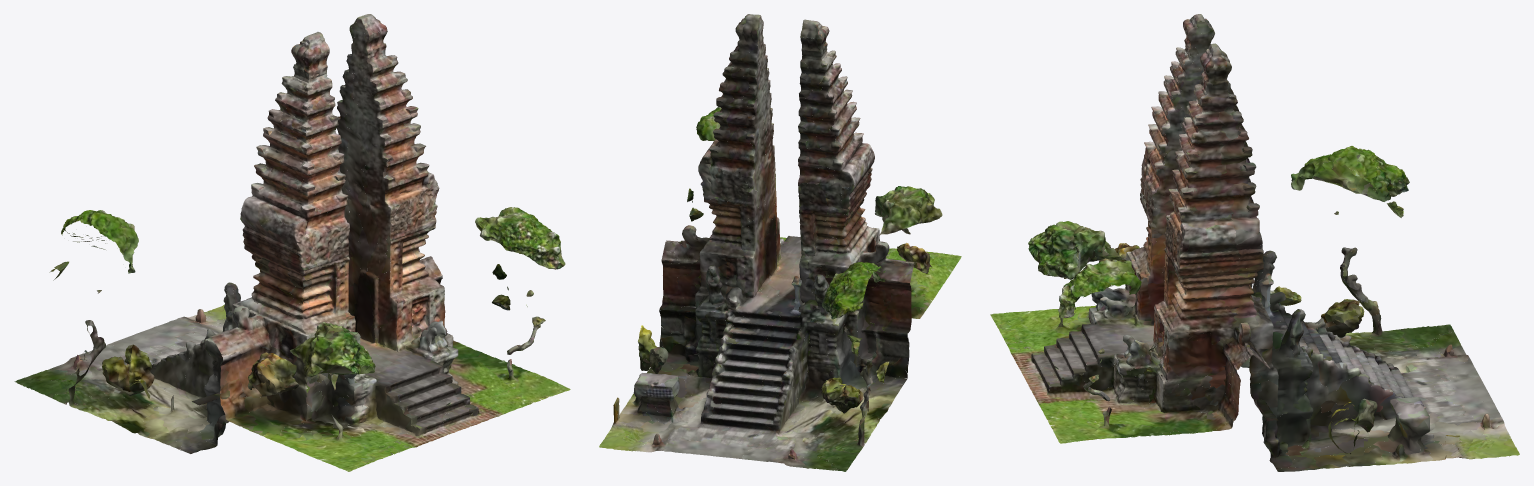
File: candi-bentar.glb
The picture shows the model from 3 angles, left to right: view 1: azimuth 30°, elevation 25°; view 2: azimuth 150°, elevation 25°; view 3: azimuth 270°, elevation 25°; orthographic projection. The views are drawn at different scales.
Visible parts, largest first — view 1: Object_5, Object_7, Object_9, Object_13, Object_11; view 2: Object_13, Object_7, Object_5, Object_11, Object_9; view 3: Object_9, Object_5, Object_13, Object_11, Object_7.
Part boxes in pixels (bbox=[...]): Object_5: bbox=[16, 19, 570, 471]; Object_7: bbox=[14, 16, 563, 471]; Object_9: bbox=[51, 19, 566, 462]; Object_13: bbox=[54, 16, 563, 461]; Object_11: bbox=[29, 14, 562, 459]; Object_13: bbox=[605, 15, 952, 462]; Object_7: bbox=[615, 14, 960, 471]; Object_5: bbox=[599, 15, 961, 470]; Object_11: bbox=[621, 14, 940, 468]; Object_9: bbox=[610, 15, 938, 457]; Object_9: bbox=[999, 18, 1515, 471]; Object_5: bbox=[990, 19, 1519, 460]; Object_13: bbox=[999, 14, 1494, 461]; Object_11: bbox=[999, 16, 1502, 470]; Object_7: bbox=[991, 24, 1504, 468].
Bounding box in the file's own units: 0.4341 × 0.4748 × 0.5738.
5 materials, 5 textured.
